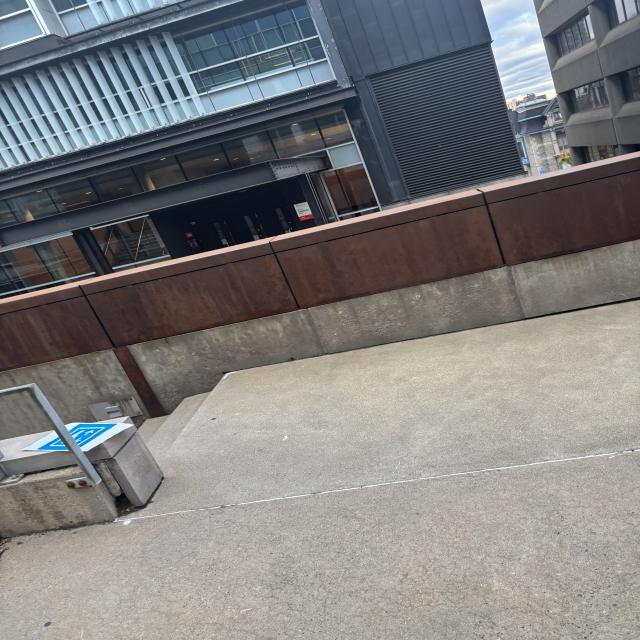elevator: (36, 424, 114, 450)
